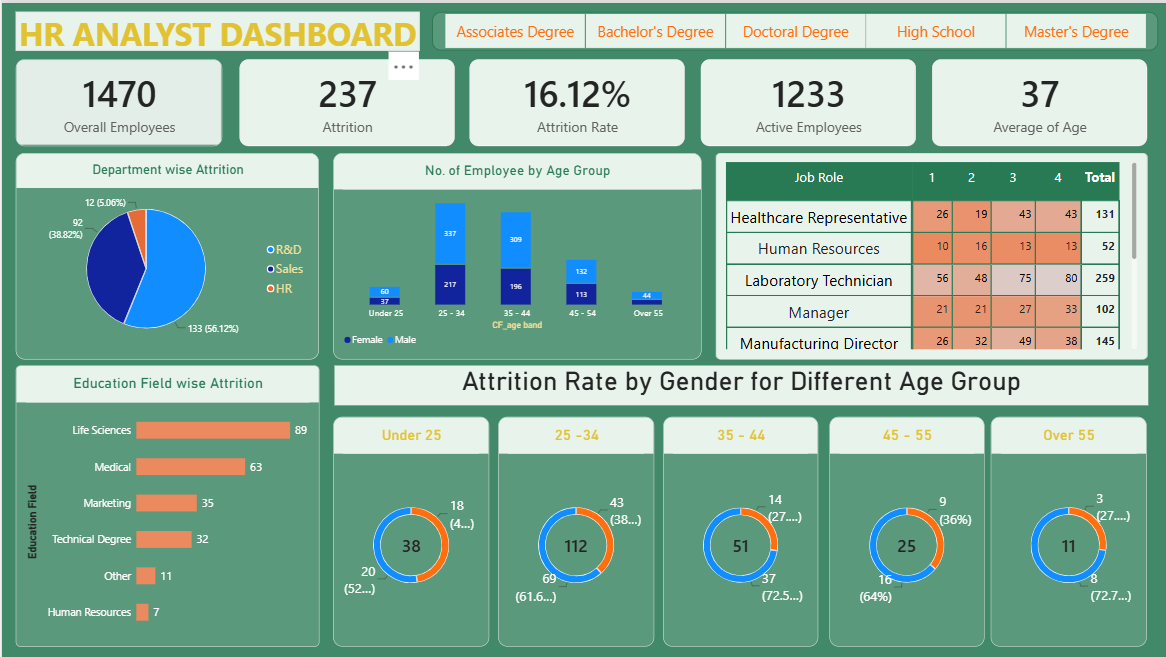

The page's visual inventory and layout, read from the dashboard file:
{"tool":"powerbi","page":{"name":"HR ANALYST DASHBOARD","canvas":[1920,1080],"ordinal":0},"visuals":[{"type":"cardVisual","title":"Overall Employees","fields":{"Data":["Sum(HR data.Employee Count)"]},"box":[23.5,92.3,340.2,143],"z":0},{"type":"cardVisual","title":"Overall Employees","fields":{"Data":["Sum(HR data.Attrition Count)"]},"box":[390.9,92.3,354.7,143],"z":1000},{"type":"cardVisual","title":"Overall Employees","fields":{"Data":["HR data.Attrition Rate"]},"box":[769.1,92.3,354.7,143],"z":2000},{"type":"cardVisual","title":"Overall Employees","fields":{"Data":["HR data.Active Employees"]},"box":[1150.9,92.3,354.7,143],"z":3000},{"type":"cardVisual","title":"Overall Employees","fields":{"Data":["Avg(HR data.Age)"]},"box":[1531,92.3,354.7,143],"z":4000},{"type":"pieChart","title":"Department wise Attrition","fields":{"Category":["HR data.Department"],"Y":["Sum(HR data.Attrition Count)"]},"box":[23.5,247.9,499.5,340.2],"z":5000},{"type":"columnChart","title":"No. of Employee by Age Group","fields":{"Category":["HR data.CF_age band"],"Series":["HR data.Gender"],"Y":["Sum(HR data.Employee Count)"]},"box":[544.7,247.9,606.2,340.2],"z":6000},{"type":"pivotTable","title":"Job Satisfaction Rating","fields":{"Columns":["HR data.Job Satisfaction"],"Rows":["HR data.Job Role"],"Values":["Sum(HR data.Employee Count)"]},"box":[1174.5,247.9,711.2,340.2],"z":7000},{"type":"barChart","title":"Education Field wise Attrition","fields":{"Category":["HR data.Education Field"],"Y":["Sum(HR data.Attrition Count)"]},"box":[22.6,596.9,500.2,463.1],"z":8000},{"type":"donutChart","title":"Under 25","fields":{"Category":["HR data.Gender"],"Series":["HR data.CF_age band"],"Y":["Sum(HR data.Attrition Count)"]},"box":[545.5,681.3,257,378.7],"z":9000},{"type":"textbox","title":"Attrition Rate by Gender for Different Age Group","box":[547.5,596.9,1340,65.9],"z":10000},{"type":"donutChart","title":"25 -34","fields":{"Category":["HR data.Gender"],"Series":["HR data.CF_age band"],"Y":["Sum(HR data.Attrition Count)"]},"box":[817.2,681.3,257,378.7],"z":11000},{"type":"donutChart","title":"35 - 44","fields":{"Category":["HR data.Gender"],"Series":["HR data.CF_age band"],"Y":["Sum(HR data.Attrition Count)"]},"box":[1088.9,681.3,255,378.7],"z":12000},{"type":"donutChart","title":"45 - 55","fields":{"Category":["HR data.Gender"],"Series":["HR data.CF_age band"],"Y":["Sum(HR data.Attrition Count)"]},"box":[1362.6,681.3,255,378.7],"z":13000},{"type":"donutChart","title":"Over 55","fields":{"Category":["HR data.Gender"],"Series":["HR data.CF_age band"],"Y":["Sum(HR data.Attrition Count)"]},"box":[1628.1,681.3,257,378.7],"z":14000},{"type":"textbox","title":"HR ANALYST DASHBOARD","box":[22.6,14.4,664.8,63.8],"z":15000},{"type":"slicer","fields":{"Values":["HR data.Education"]},"box":[708.1,14.4,1195.9,63.8],"z":15001}]}

Visuals, with their boxes in screenshot pixels (x1, y1, x2, y2), scaled from the page's 1920x1080 canvas onto the 1166x657 screenshot:
"Overall Employees" cardVisual: (x1=14, y1=56, x2=221, y2=143)
"Overall Employees" cardVisual: (x1=237, y1=56, x2=453, y2=143)
"Overall Employees" cardVisual: (x1=467, y1=56, x2=682, y2=143)
"Overall Employees" cardVisual: (x1=699, y1=56, x2=914, y2=143)
"Overall Employees" cardVisual: (x1=930, y1=56, x2=1145, y2=143)
"Department wise Attrition" pieChart: (x1=14, y1=151, x2=318, y2=358)
"No. of Employee by Age Group" columnChart: (x1=331, y1=151, x2=699, y2=358)
"Job Satisfaction Rating" pivotTable: (x1=713, y1=151, x2=1145, y2=358)
"Education Field wise Attrition" barChart: (x1=14, y1=363, x2=317, y2=645)
"Under 25" donutChart: (x1=331, y1=414, x2=487, y2=645)
"Attrition Rate by Gender for Different Age Group" textbox: (x1=332, y1=363, x2=1146, y2=403)
"25 -34" donutChart: (x1=496, y1=414, x2=652, y2=645)
"35 - 44" donutChart: (x1=661, y1=414, x2=816, y2=645)
"45 - 55" donutChart: (x1=827, y1=414, x2=982, y2=645)
"Over 55" donutChart: (x1=989, y1=414, x2=1145, y2=645)
"HR ANALYST DASHBOARD" textbox: (x1=14, y1=9, x2=417, y2=48)
slicer - HR data.Education: (x1=430, y1=9, x2=1156, y2=48)
